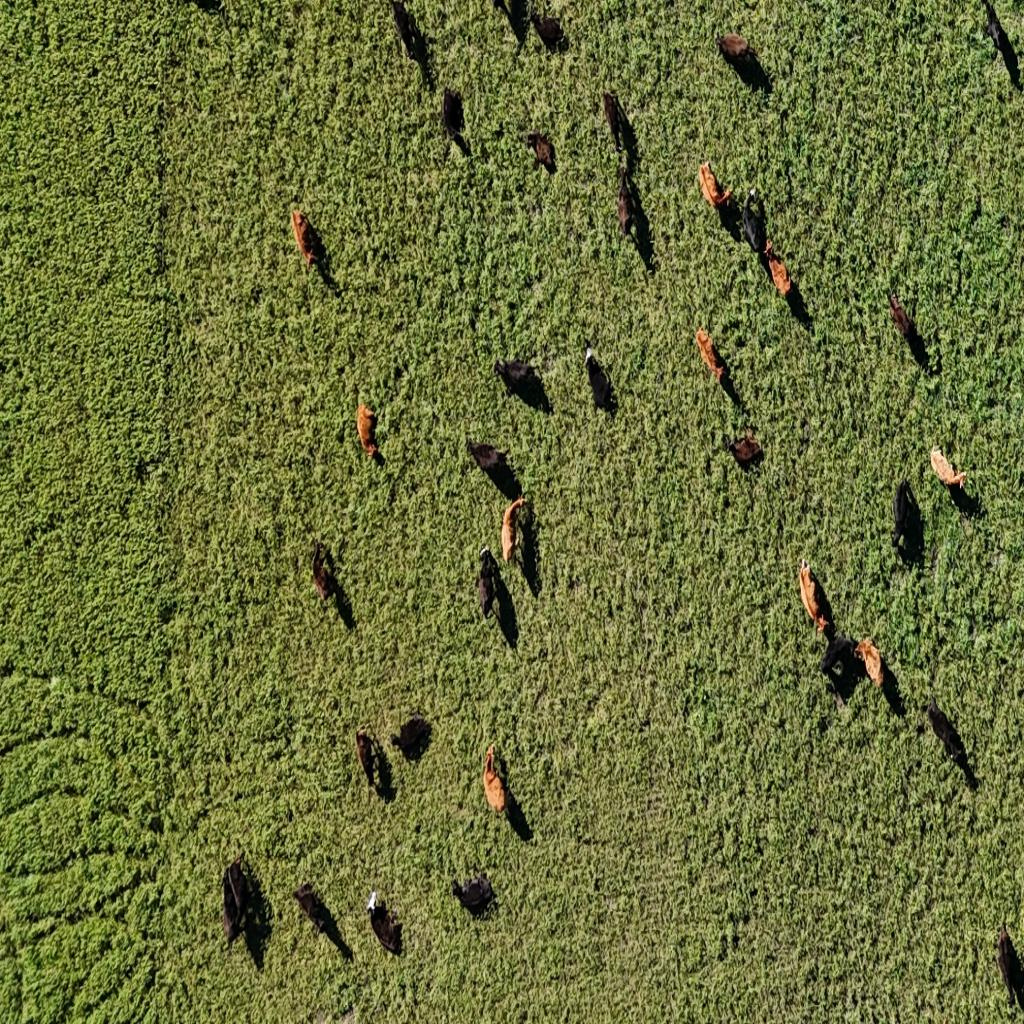cow: (980, 2, 1018, 84), (922, 702, 967, 765), (364, 888, 404, 956), (798, 560, 832, 636), (222, 857, 248, 947), (995, 923, 1022, 1009), (293, 883, 331, 939), (890, 478, 918, 554), (715, 31, 758, 79), (819, 634, 860, 683), (464, 437, 510, 480), (390, 715, 430, 762), (584, 345, 612, 412), (501, 496, 528, 564), (292, 209, 320, 274), (452, 873, 494, 916), (696, 327, 727, 384), (482, 744, 506, 815), (698, 161, 732, 211), (494, 356, 538, 394), (764, 238, 792, 297), (853, 637, 884, 689), (390, 0, 416, 61), (355, 726, 379, 792), (930, 446, 966, 490), (742, 188, 766, 254), (477, 546, 498, 620), (310, 540, 334, 604), (725, 430, 763, 468), (357, 402, 381, 462), (603, 90, 625, 155), (529, 10, 564, 49), (523, 130, 554, 172), (442, 86, 464, 145), (616, 168, 634, 240), (888, 294, 912, 340)
